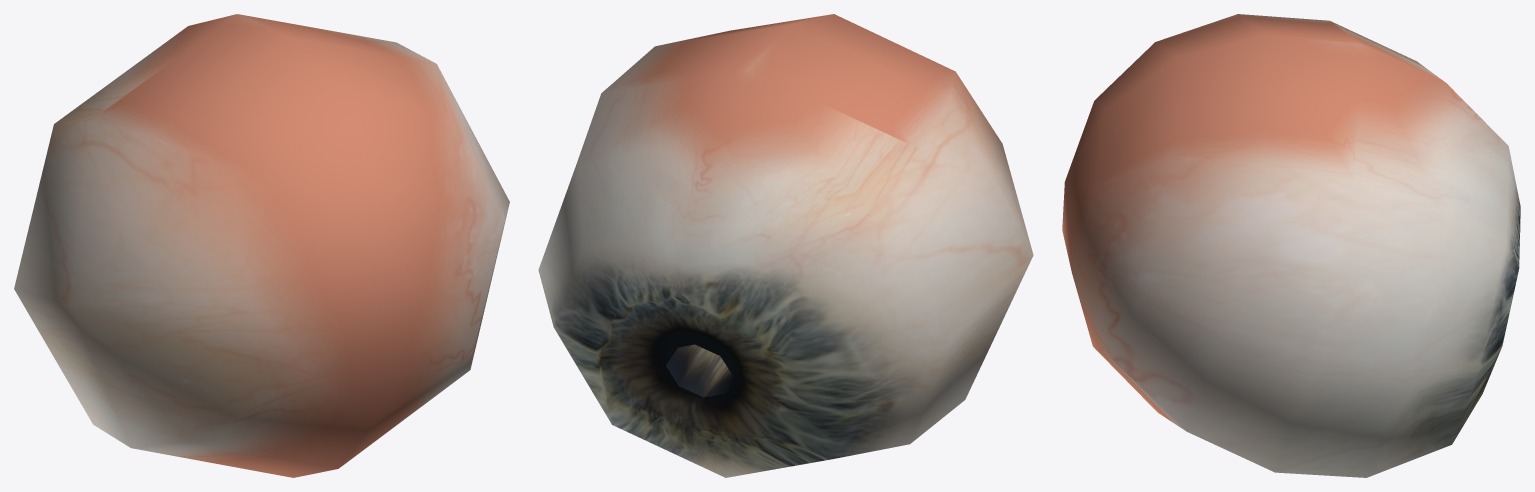
Rendered from eyeballLOD.fbx.
The picture shows the model from 3 angles, left to right: view 1: azimuth 30°, elevation 25°; view 2: azimuth 150°, elevation 25°; view 3: azimuth 270°, elevation 25°; orthographic projection. The views are drawn at different scales.
Parts seen in each view (by area): view 1: Level0; view 2: Level0; view 3: Level0.
Part boxes in pixels (box(x1,y1,x2,y2)): Level0: box(14, 14, 509, 477); Level0: box(538, 14, 1033, 477); Level0: box(1062, 14, 1520, 477).
Size of the model in its own units: 2.67 by 2.48 by 2.41.
